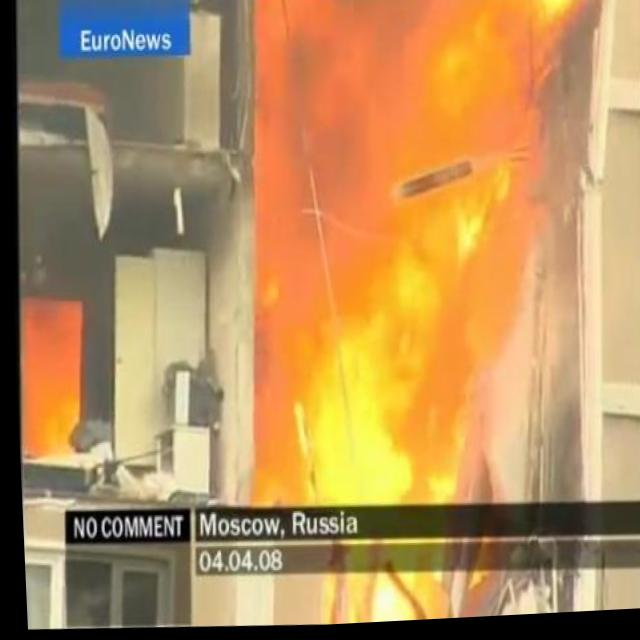fire: (233, 0, 629, 523), (11, 291, 83, 465)
